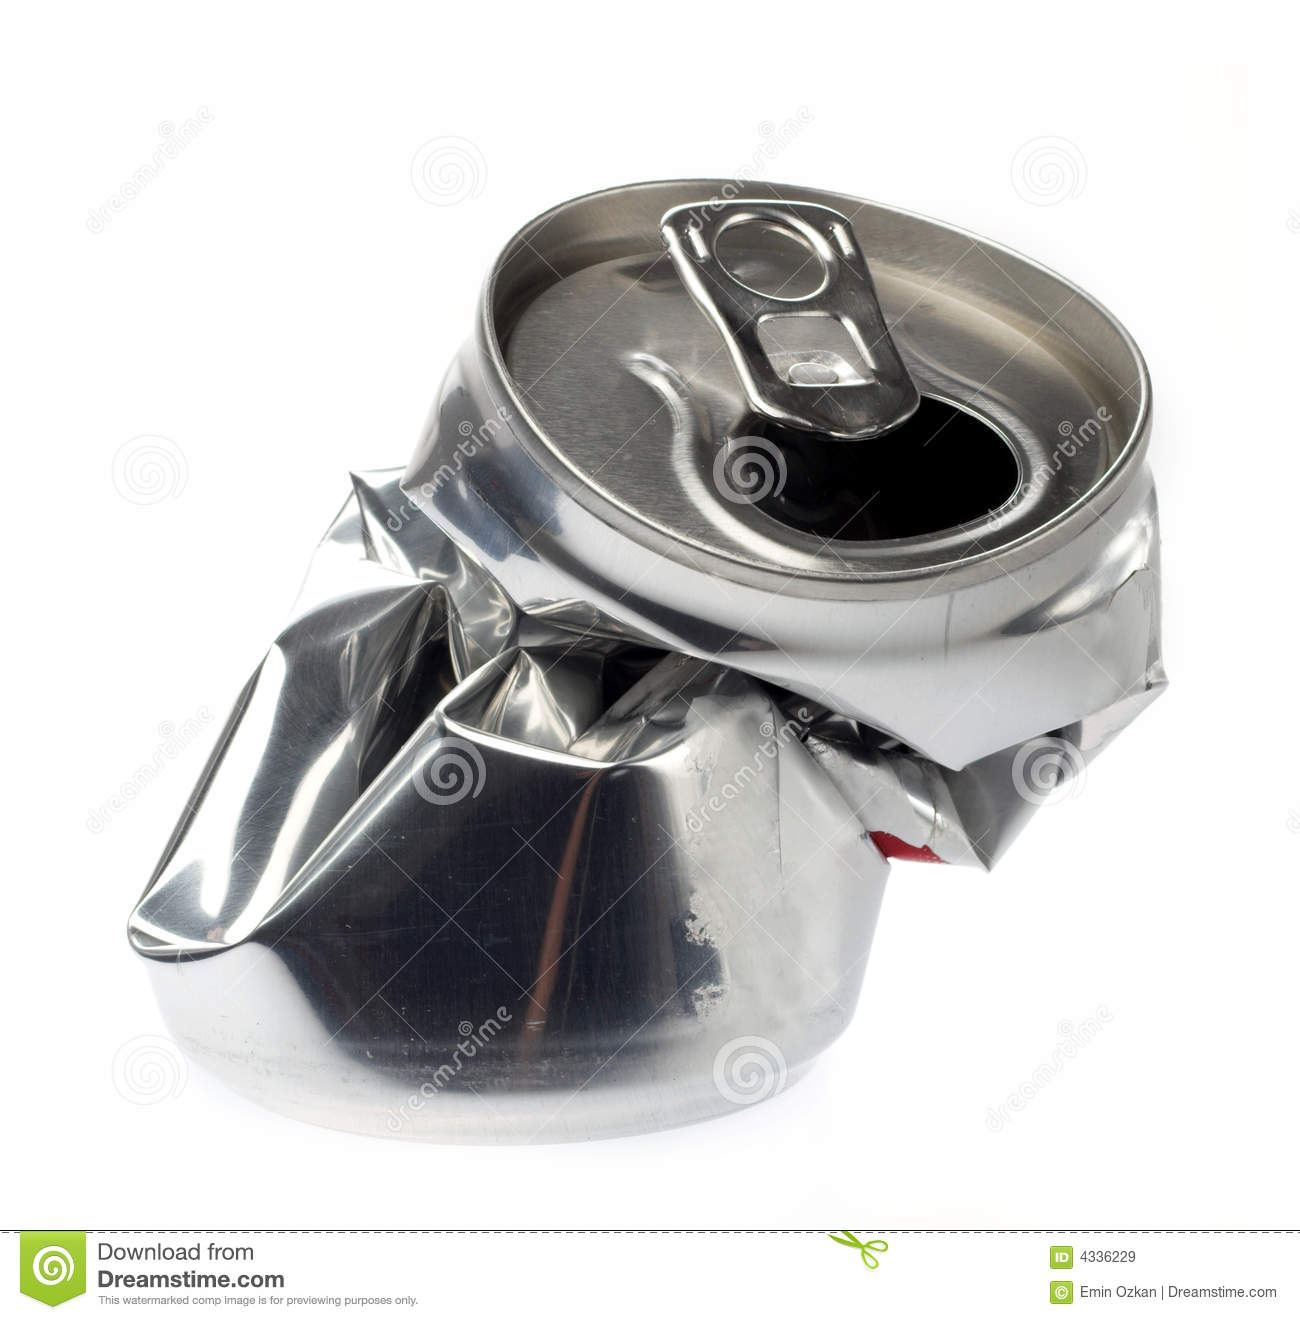Rec_Metal: (104, 130, 1195, 1152)
